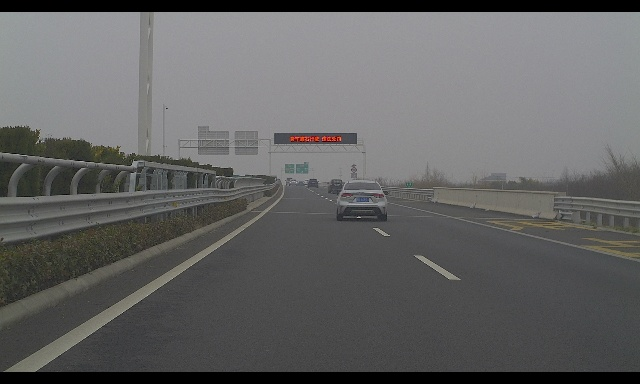car: (332, 180, 389, 221), (327, 179, 344, 194), (307, 179, 319, 188), (285, 178, 293, 186), (289, 179, 298, 186), (303, 179, 310, 185)
